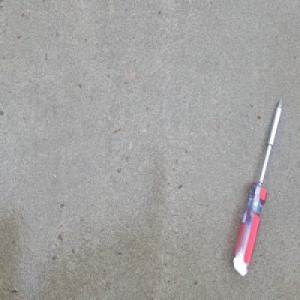Screwdriver: (231, 91, 284, 276)
